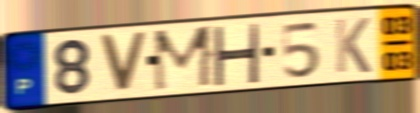5: (280, 19, 323, 80)
8: (51, 36, 93, 98)
H: (210, 23, 261, 87)
K: (332, 15, 373, 75)
M: (151, 23, 217, 94)
V: (96, 30, 150, 95)
